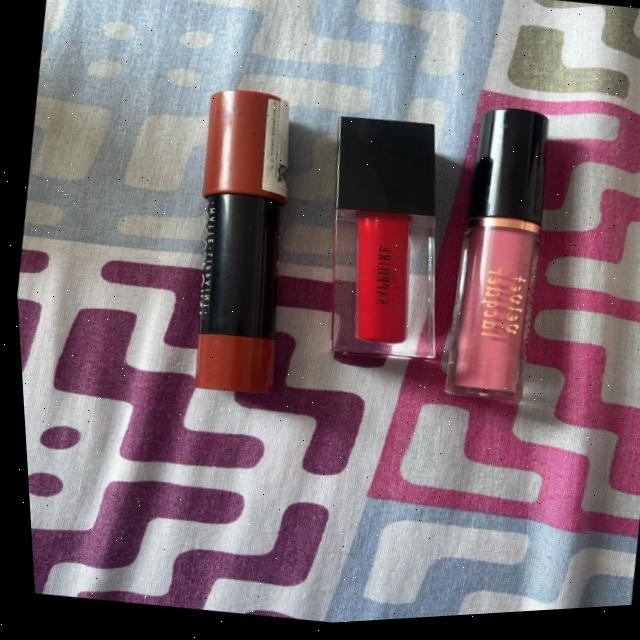lip gloss: (412, 99, 583, 430), (297, 96, 476, 382)
lip liner: (122, 67, 330, 421)
